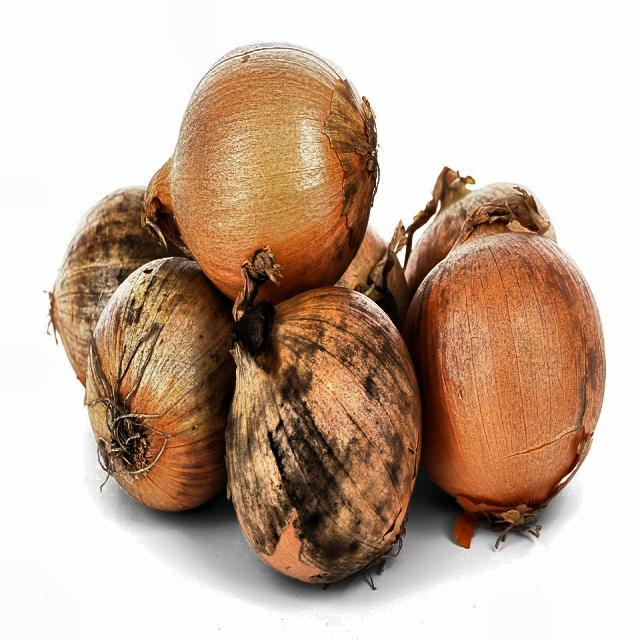onion: (132, 61, 436, 618)
